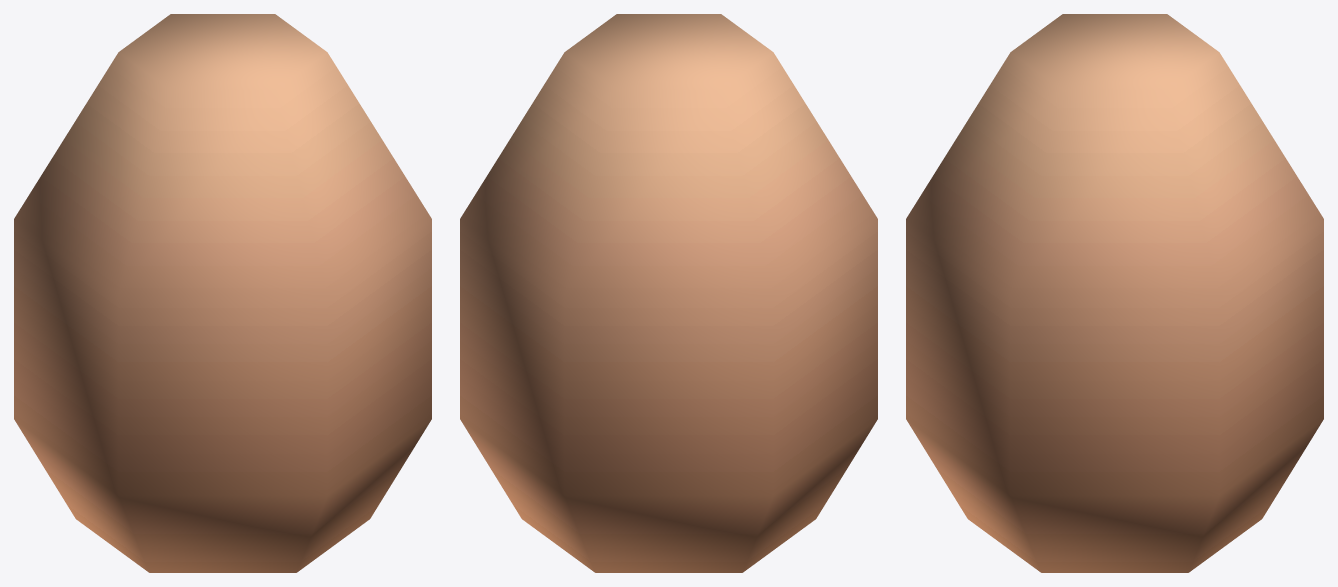
File: egg.c994767af0.glb
3 views of the same model, side by side, from view 1: azimuth 30°, elevation 25°; view 2: azimuth 150°, elevation 25°; view 3: azimuth 270°, elevation 25° (orthographic).
Parts seen in each view (by area): view 1: egg; view 2: egg; view 3: egg.
Part boxes in pixels (<box>): egg: <box>14,14,431,572</box>; egg: <box>460,14,877,572</box>; egg: <box>906,14,1323,572</box>.
Bounding box in the file's own units: 0.1161 × 0.1652 × 0.134.
Materials: 1 (1 with a texture image).
